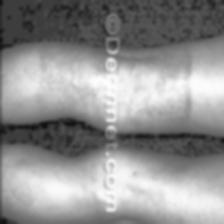Toxin: (134, 38, 192, 118)
